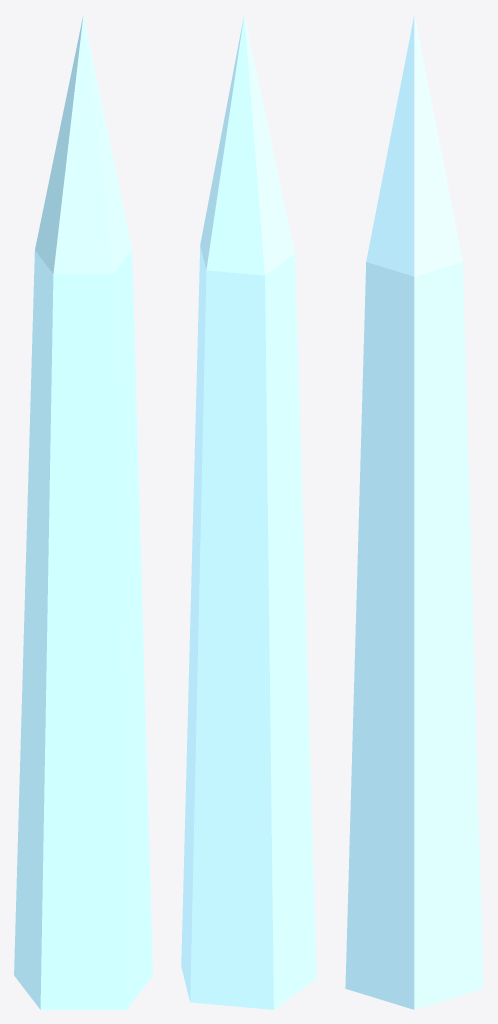
File: GEM_06_SlenderNeedle.fbx
3 renders of one model, left to right at view 1: azimuth 90°, elevation 25°; view 2: azimuth 150°, elevation 25°; view 3: azimuth 270°, elevation 25°, orthographic.
Visible parts, largest first — view 1: GEM_06_SlenderNeedle; view 2: GEM_06_SlenderNeedle; view 3: GEM_06_SlenderNeedle.
Boxes of the visible parts, x1,y1,x2,y2 form: GEM_06_SlenderNeedle: [14, 14, 152, 1009]; GEM_06_SlenderNeedle: [181, 15, 316, 1009]; GEM_06_SlenderNeedle: [345, 14, 483, 1009].
Bounding box in the file's own units: 0.2714 × 2.2 × 0.2853.
